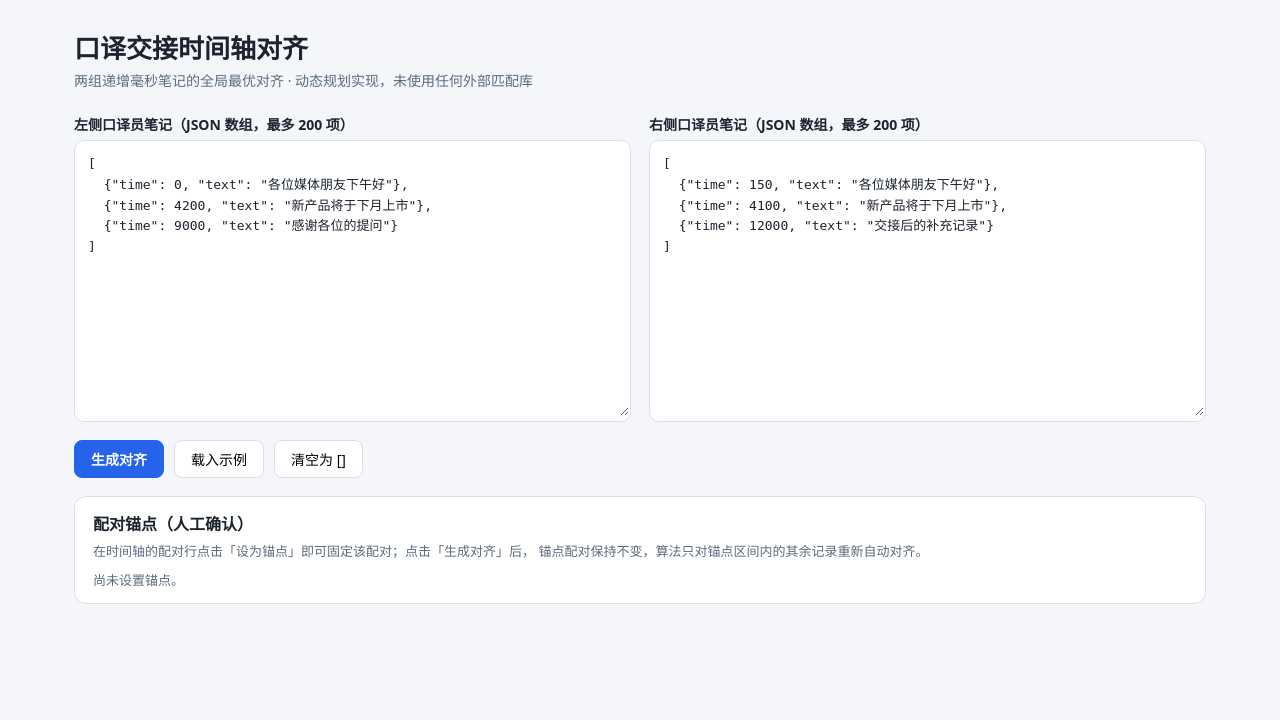
Test: App › keeps inputs and marks on an anchor error, shown next to the anchor
Click the button with test id "submit" at coordinates (119, 459), box top-left (74, 440), bottom-right (164, 478)
(page scrolled)
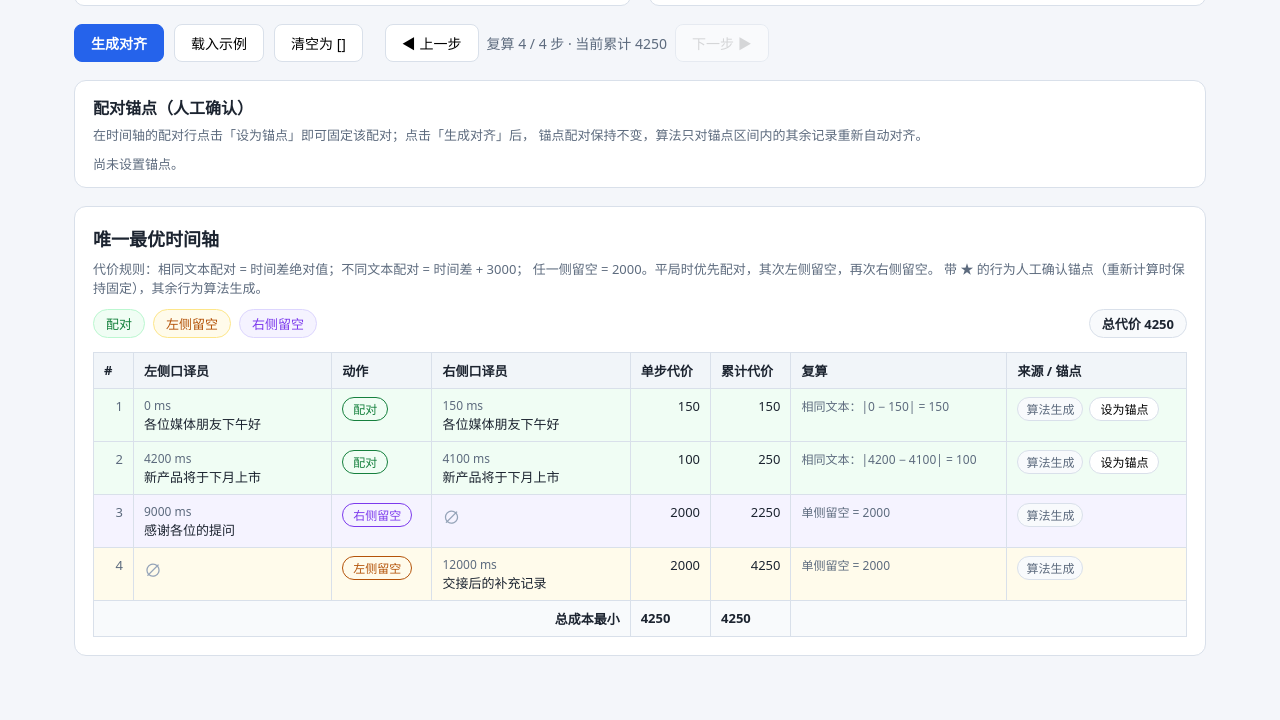
Now the number of rows with test id "timeline-row" is 4, box top-left (94, 388), bottom-right (1186, 441); top-left (94, 441), bottom-right (1186, 494); top-left (94, 494), bottom-right (1186, 547); top-left (94, 547), bottom-right (1186, 600)
Click the button with test id "anchor-toggle" in the row of "150 ms" at coordinates (1124, 409), box top-left (1089, 397), bottom-right (1159, 421)
(page scrolled)
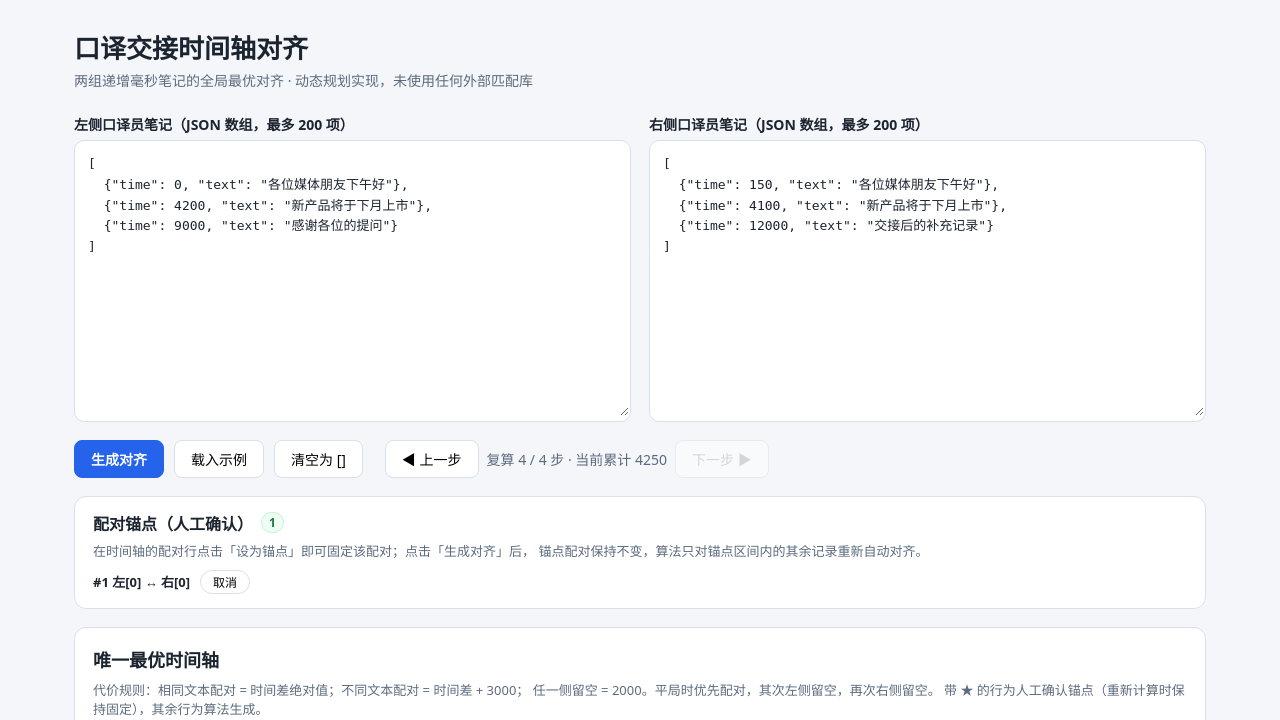
// The user then empties the right side, making the anchor out of range.
Replace the text in the text box with test id "input-right" with "[]" at coordinates (928, 279), box top-left (650, 141), bottom-right (1205, 417)
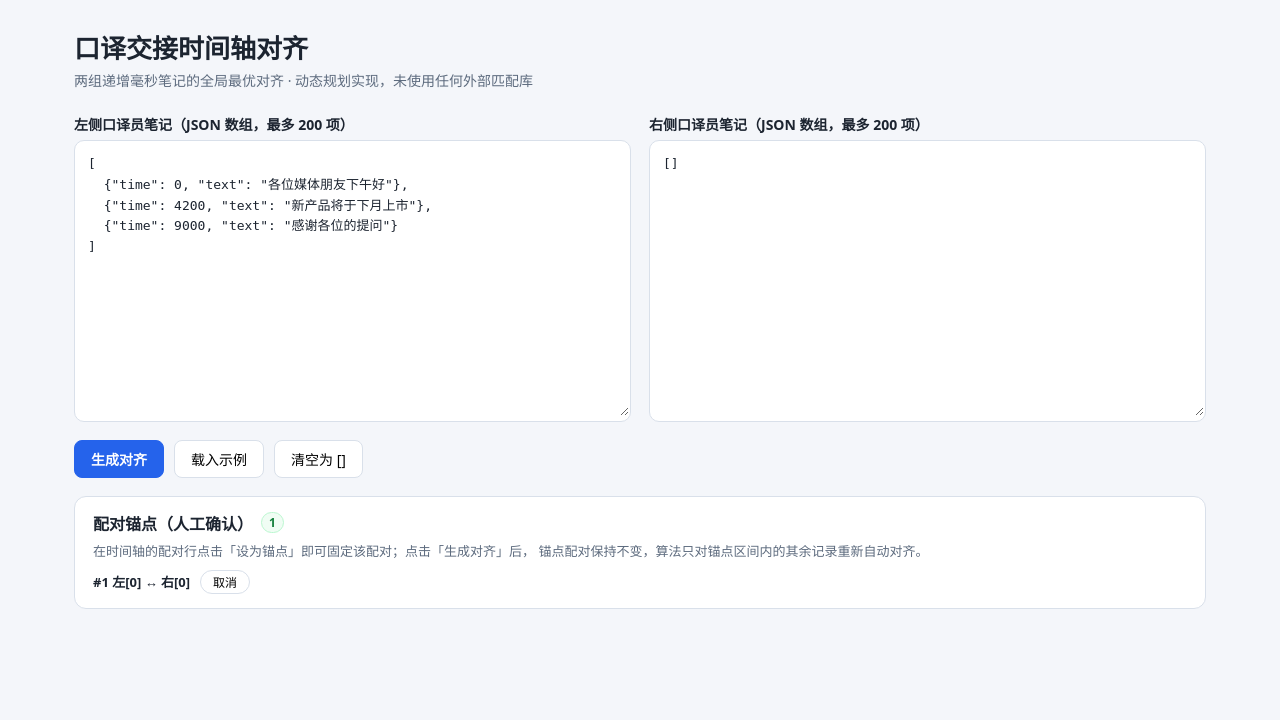
Click the button with test id "submit" at coordinates (119, 459), box top-left (74, 440), bottom-right (164, 478)
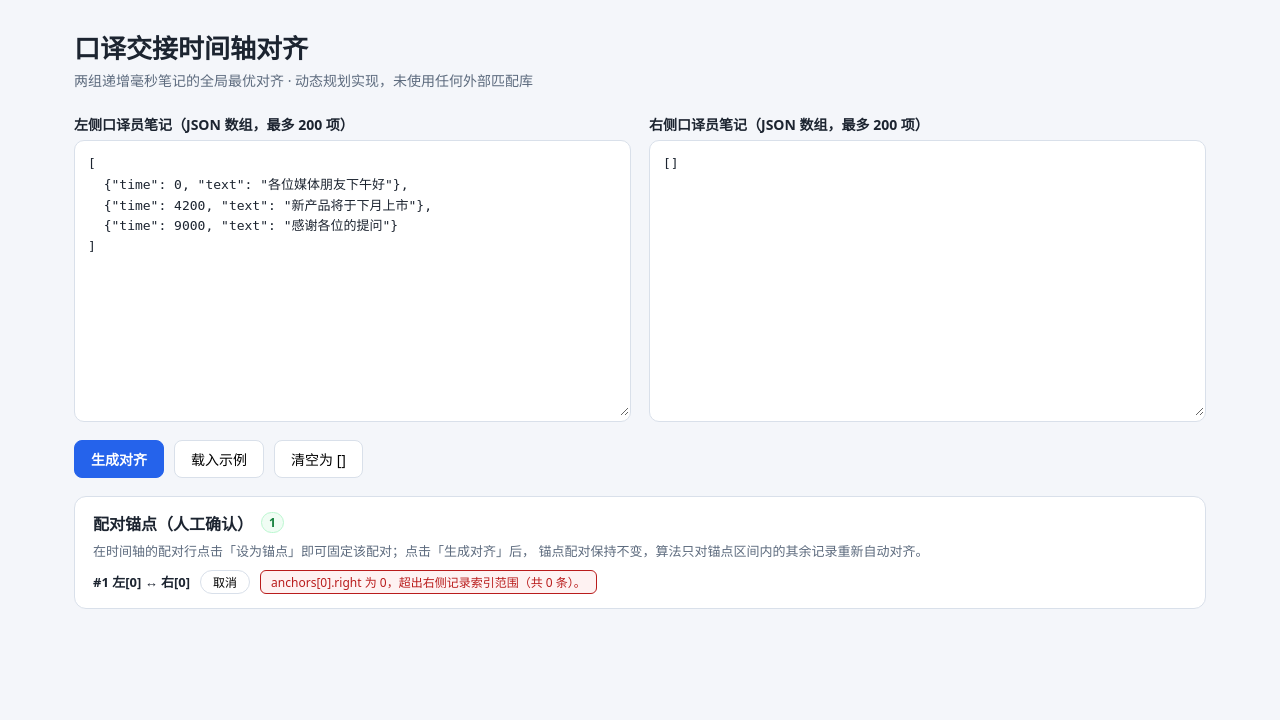
Now the list item with test id "anchor-item" shows "左[0] ↔ 右[0]", box top-left (93, 570), bottom-right (597, 594)
Now the message "anchors[0].right 为 0，超出右侧记录索引范围（共 0 条）。" is shown, box top-left (260, 570), bottom-right (597, 594)
Now the list item with test id "anchor-item" shows "超出右侧记录索引范围", box top-left (271, 574), bottom-right (586, 591)
